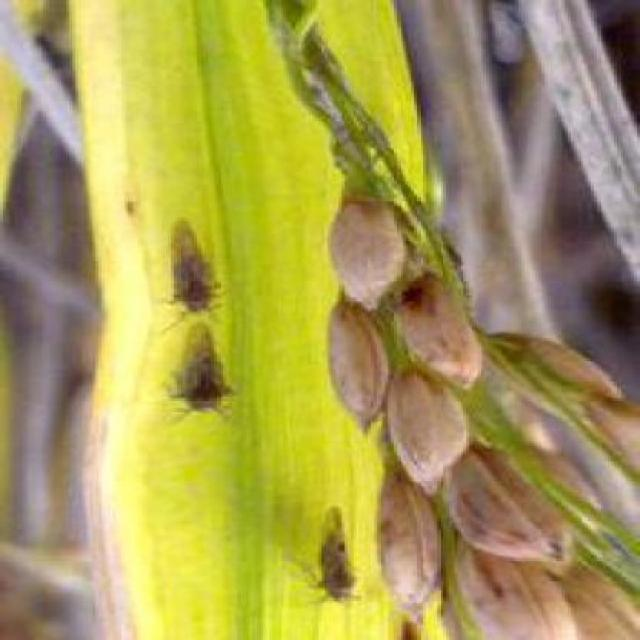brown-planthopper: (158, 216, 224, 316), (174, 323, 237, 415), (309, 503, 360, 606)
